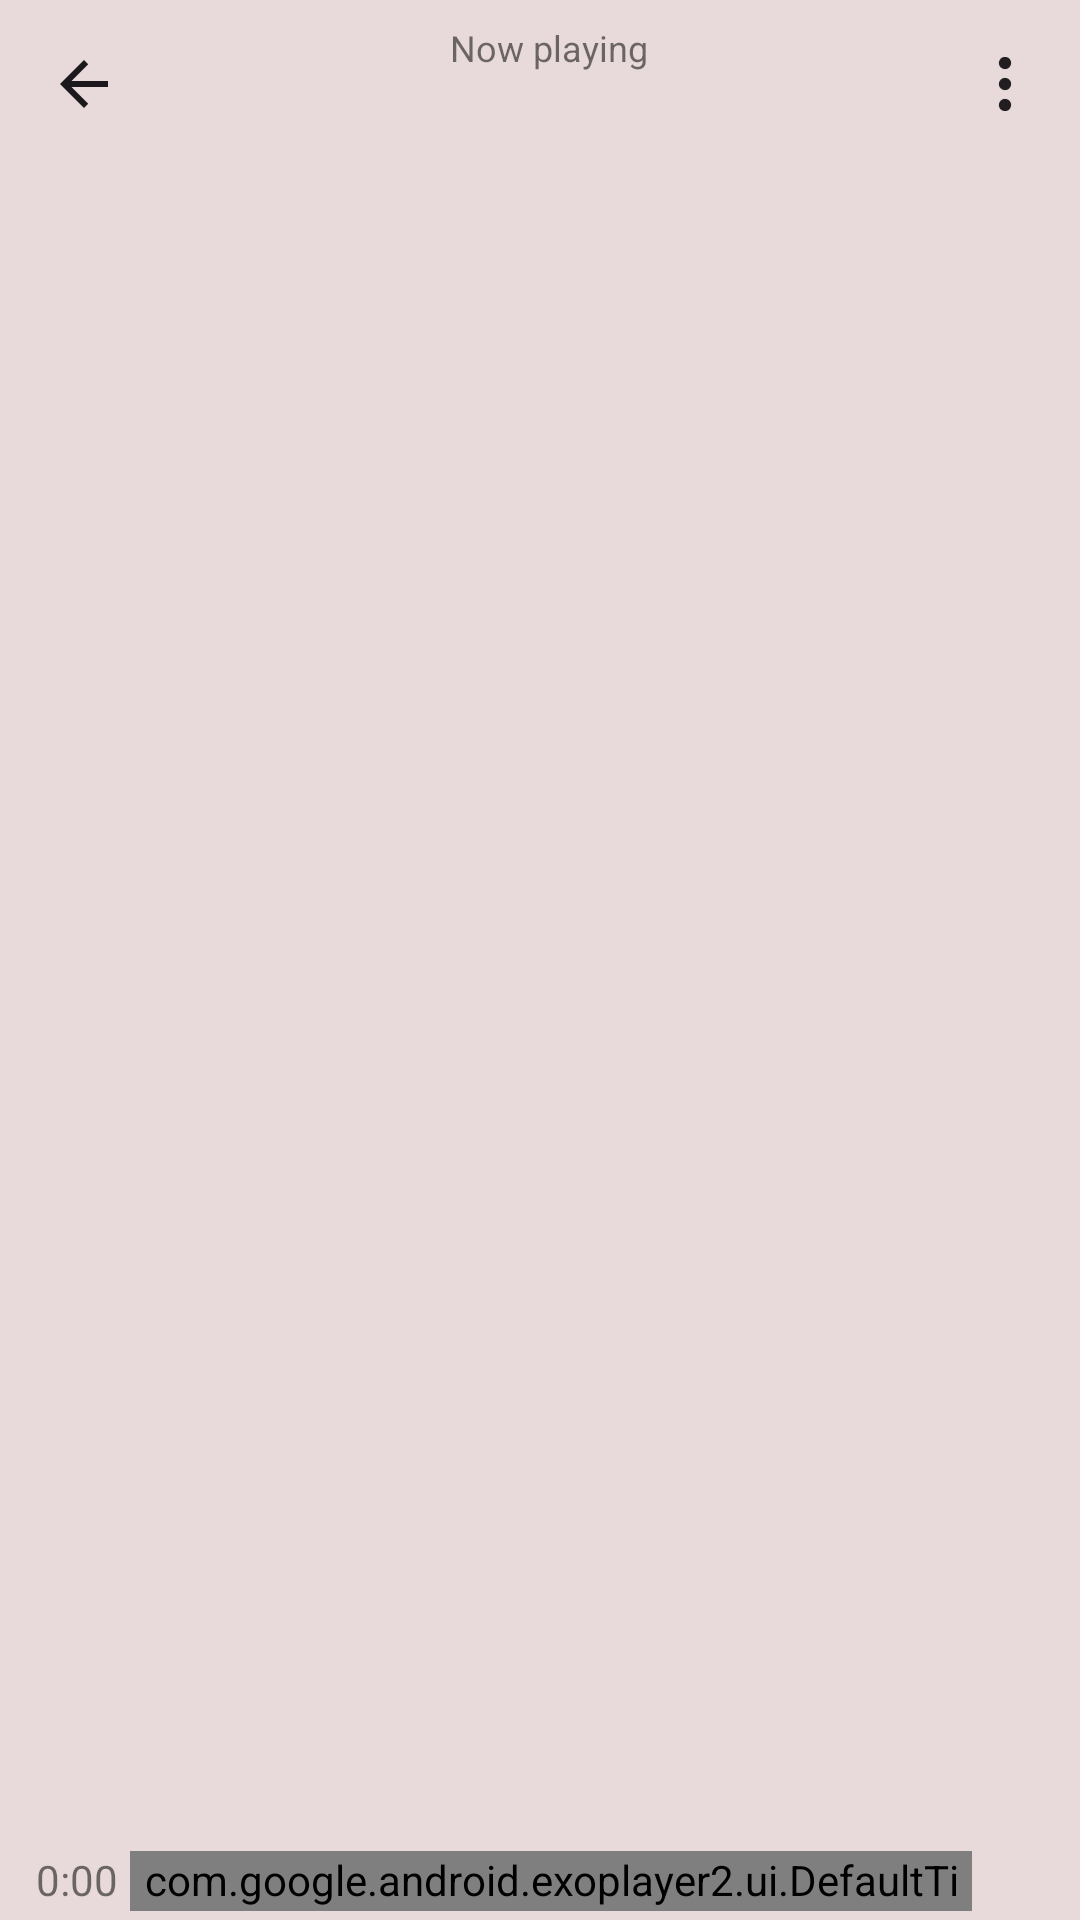

Icon click points for this 1080x1920 phone screenshot, format [x,y]:
arrow back: [84,84]
more: [1005,84]
